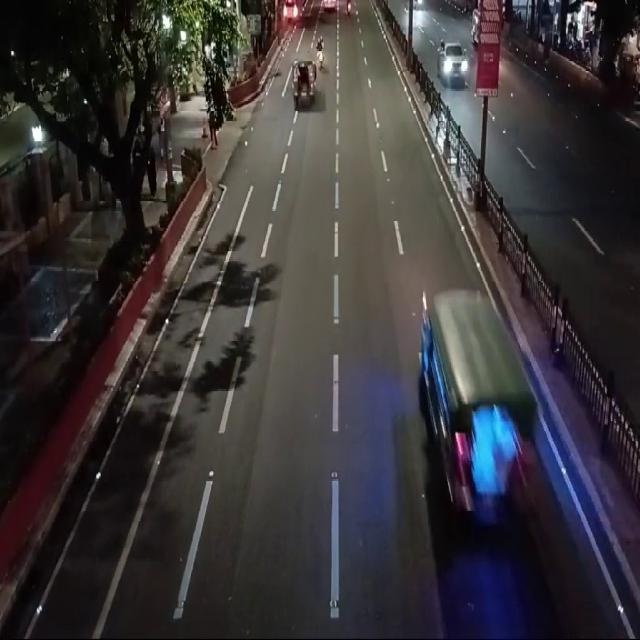car: (433, 34, 469, 94)
jeepney: (408, 253, 558, 573), (290, 56, 317, 110)
motorcycle: (314, 33, 327, 73)
